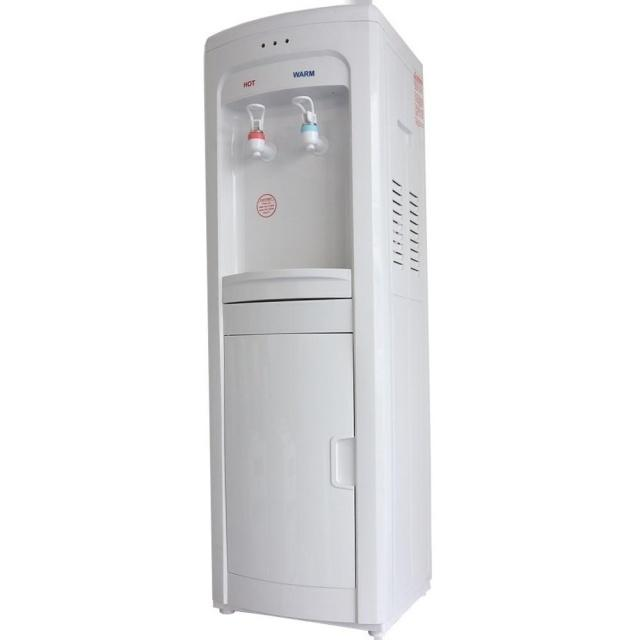Dispenser: (202, 1, 431, 639)
